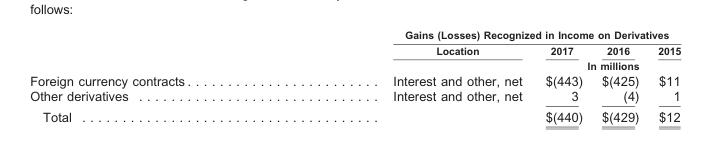table: (29, 28, 680, 123)
table column: (29, 28, 291, 123), (291, 28, 533, 123), (533, 28, 591, 123), (591, 28, 647, 123), (647, 28, 680, 123)
table column header: (29, 28, 680, 72)
table row: (29, 88, 680, 106), (29, 106, 680, 123), (29, 72, 680, 88), (29, 42, 680, 57), (29, 57, 680, 72), (29, 28, 680, 42)
table spanning cell: (291, 42, 533, 72), (291, 28, 680, 42), (533, 57, 680, 72)
